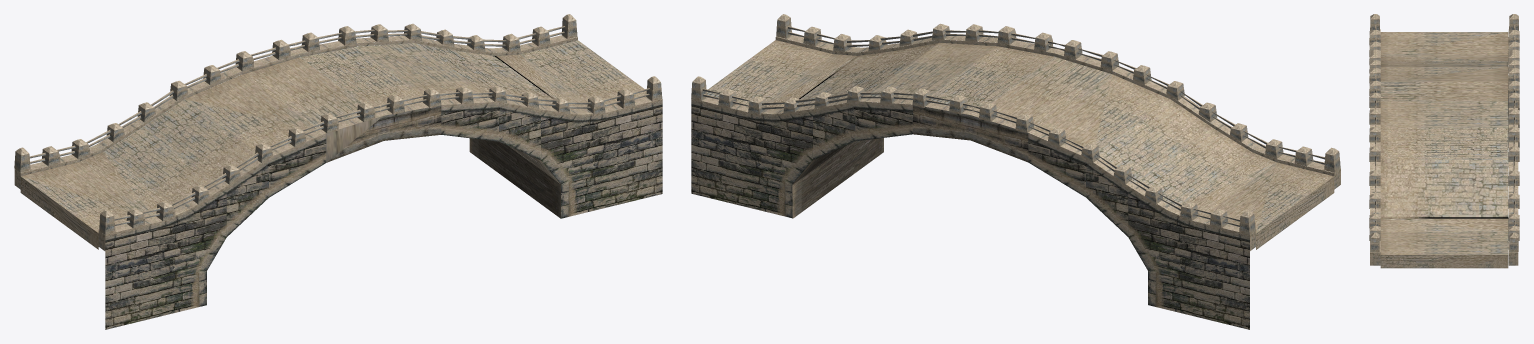
Rendered from desert_-bridge01_lod_01.glb.
3 renders of one model, left to right at view 1: azimuth 30°, elevation 25°; view 2: azimuth 150°, elevation 25°; view 3: azimuth 270°, elevation 25°, orthographic. The views are drawn at different scales.
Parts seen in each view (by area): view 1: desert_bridge01_02, Bip01; view 2: desert_bridge01_02, Bip01; view 3: desert_bridge01_02.
Part boxes in pixels (bbox=[...]): desert_bridge01_02: bbox=[14, 14, 662, 250]; Bip01: bbox=[20, 37, 662, 329]; desert_bridge01_02: bbox=[691, 14, 1340, 250]; Bip01: bbox=[691, 37, 1334, 329]; desert_bridge01_02: bbox=[1369, 14, 1519, 268].
Size of the model in its own units: 28.93 by 7.94 by 8.24.
2 materials, 2 textured.
